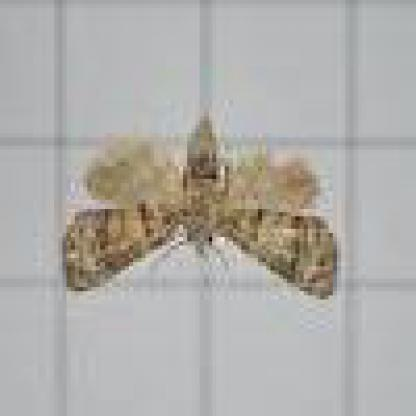Leaf Webber: (54, 114, 343, 305)
